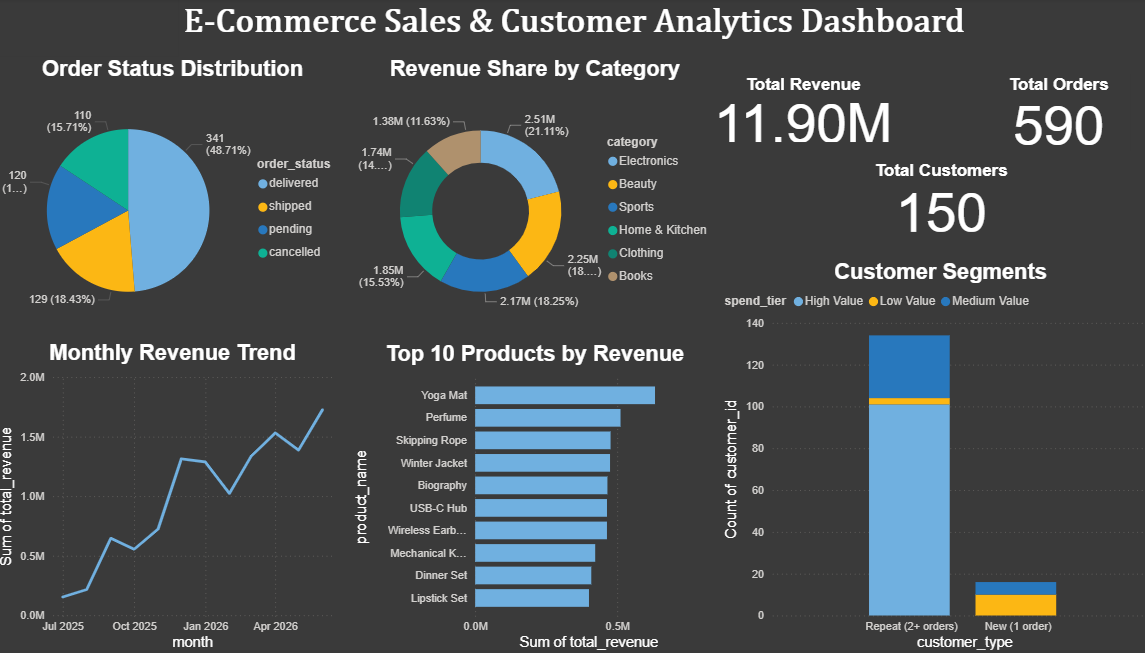

The page's visual inventory and layout, read from the dashboard file:
{"tool":"powerbi","page":{"name":"Page 1","canvas":[1280,720],"ordinal":0},"visuals":[{"type":"lineChart","title":"Monthly Revenue Trend","fields":{"Y":["Sum(public vw_monthly_revenue.total_revenue)"],"Category":["public vw_monthly_revenue.month"]},"box":[0,376,389.7,344.4],"z":0},{"type":"clusteredBarChart","title":"Top 10 Products by Revenue","fields":{"Category":["public vw_top_products.product_name"],"Y":["Sum(public vw_top_products.total_revenue)"]},"box":[389.7,377.4,406.2,343.1],"z":1000},{"type":"donutChart","title":"Revenue Share by Category","fields":{"Category":["public vw_category_performance.category"],"Y":["Sum(public vw_category_performance.total_revenue)"]},"box":[389.7,64.5,406.2,312.9],"z":2000},{"type":"columnChart","title":"Customer Segments","fields":{"Category":["public vw_customer_segments.customer_type"],"Series":["public vw_customer_segments.spend_tier"],"Y":["CountNonNull(public vw_customer_segments.customer_id)"]},"box":[795.9,286.8,484.4,433.6],"z":2001},{"type":"pieChart","title":"Order Status Distribution","fields":{"Category":["public vw_order_status_breakdown.order_status"],"Y":["Sum(public vw_order_status_breakdown.num_orders)"]},"box":[0,64.5,389.7,311.5],"z":2002},{"type":"card","title":"Total Revenue","fields":{"Values":["Sum(public vw_monthly_revenue.total_revenue)"]},"box":[782.2,83.7,209.9,79.6],"z":2003},{"type":"card","title":"Total Orders","fields":{"Values":["Sum(public vw_monthly_revenue.total_orders)"]},"box":[1089.5,83.7,156.4,83.7],"z":2004},{"type":"card","title":"Total Customers","fields":{"Values":["CountNonNull(public vw_customer_segments.customer_id)"]},"box":[922.1,178.4,233.3,83.7],"z":2005},{"type":"textbox","box":[201.7,0,953.7,64.5],"z":2006}]}

Visuals, with their boxes in screenshot pixels (x1, y1, x2, y2), scaled from the page's 1280x720 canvas onto the 1145x653 screenshot:
"Monthly Revenue Trend" lineChart: x1=0, y1=341, x2=349, y2=652
"Top 10 Products by Revenue" clusteredBarChart: x1=349, y1=342, x2=712, y2=652
"Revenue Share by Category" donutChart: x1=349, y1=58, x2=712, y2=342
"Customer Segments" columnChart: x1=712, y1=260, x2=1144, y2=652
"Order Status Distribution" pieChart: x1=0, y1=58, x2=349, y2=341
"Total Revenue" card: x1=700, y1=76, x2=887, y2=148
"Total Orders" card: x1=975, y1=76, x2=1114, y2=152
"Total Customers" card: x1=825, y1=162, x2=1034, y2=238
textbox: x1=180, y1=0, x2=1034, y2=58
